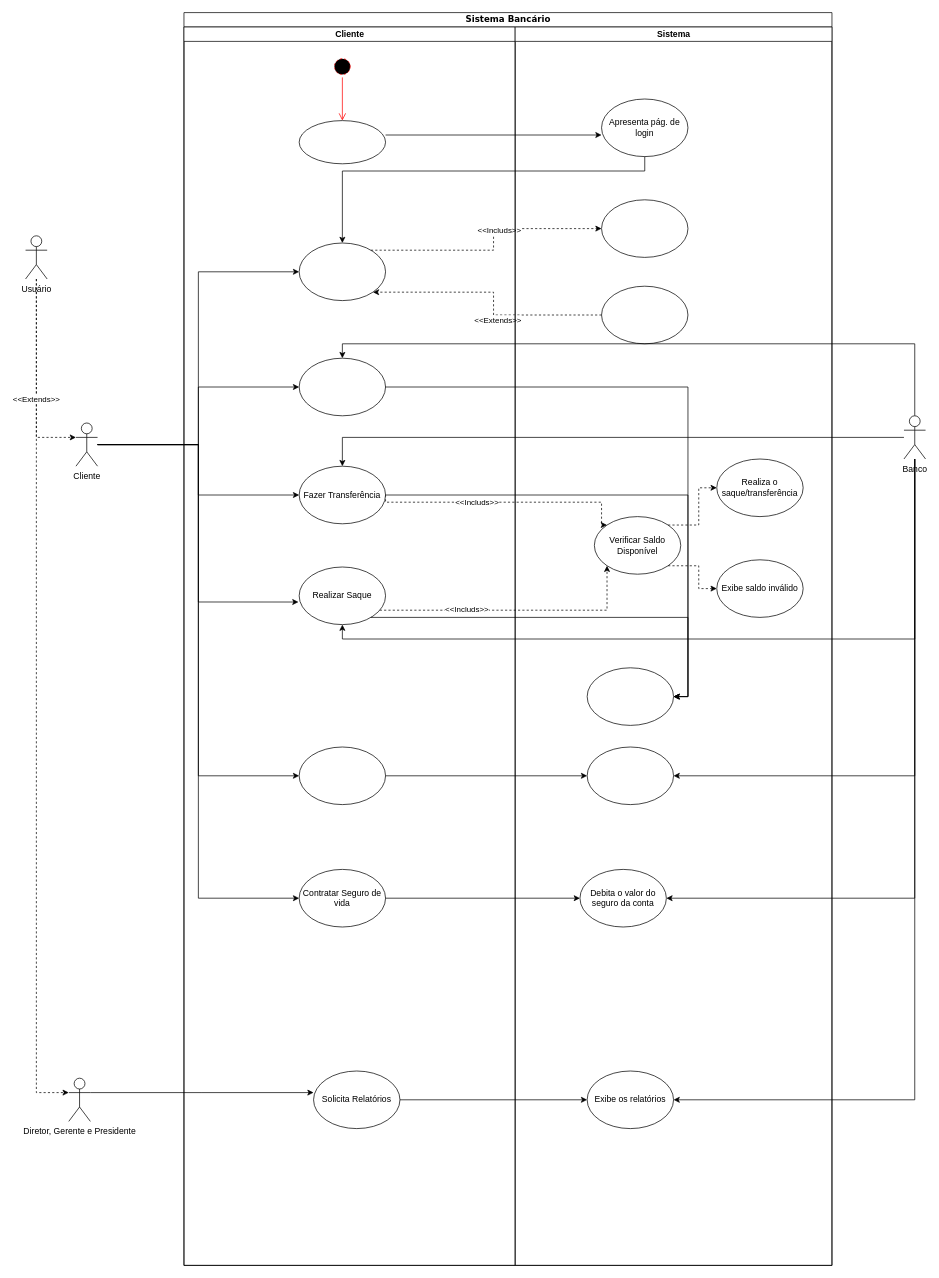
Image size: 939x1278. Some labels were removed from this diagram. The centre of each missing label's shape, as x and y in pixels:
Cliente acessa pág. de login: the point at 342,142
Exibe rendimento: the point at 630,775
Exibir Erro no Login: the point at 644,314
Exibir Saldo: the point at 630,696
Fazer Depósito: the point at 342,386
Fazer Login: the point at 342,271
Verificar CPF e Senha: the point at 644,228
Verificar rendimento da conta poupança: the point at 342,775
